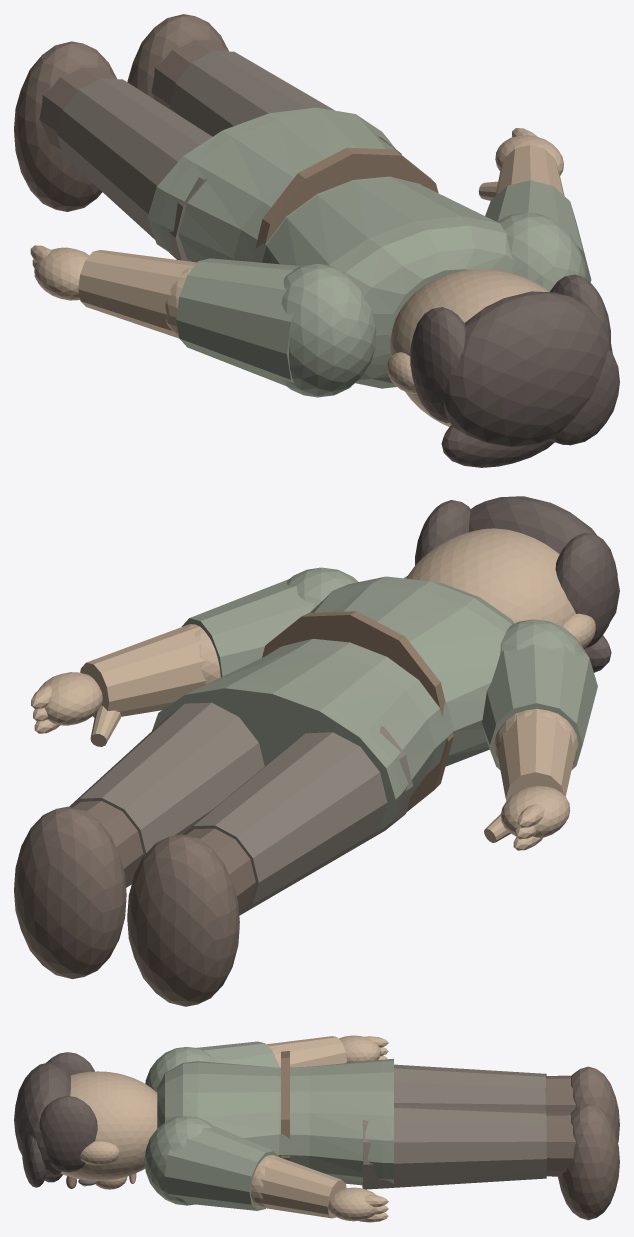
File: man.glb
3 renders of one model, top to bottom at view 1: azimuth 30°, elevation 25°; view 2: azimuth 150°, elevation 25°; view 3: azimuth 270°, elevation 25°, orthographic. The views are drawn at different scales.
Visible parts, largest first — view 1: man_006_tunic continuous body, man_039_hair cap, man_002_-1 trouser leg, man_010_-1 upper sleeve, man_009_-1 rounded shoulder, man_000_-1 boot toe, man_005_1 trouser leg, man_011_-1 forearm, man_027_head, man_007_belt narrow plain, man_018_1 rounded shoulder, man_040_side hair (+12 smaller); view 2: man_006_tunic continuous body, man_002_-1 trouser leg, man_000_-1 boot toe, man_003_1 boot toe, man_005_1 trouser leg, man_027_head, man_010_-1 upper sleeve, man_020_1 forearm, man_007_belt narrow plain, man_019_1 upper sleeve, man_011_-1 forearm, man_040_side hair (+12 smaller); view 3: man_006_tunic continuous body, man_005_1 trouser leg, man_027_head, man_019_1 upper sleeve, man_002_-1 trouser leg, man_003_1 boot toe, man_020_1 forearm, man_041_side hair, man_039_hair cap, man_018_1 rounded shoulder, man_000_-1 boot toe, man_011_-1 forearm (+11 smaller).
Part boxes in pixels (left/top/right/bottom): man_006_tunic continuous body: left=147, top=107, right=513, bottom=388; man_039_hair cap: left=442, top=291, right=612, bottom=446; man_002_-1 trouser leg: left=56, top=78, right=212, bottom=261; man_010_-1 upper sleeve: left=176, top=258, right=299, bottom=386; man_009_-1 rounded shoulder: left=281, top=263, right=376, bottom=397; man_000_-1 boot toe: left=14, top=41, right=116, bottom=211; man_005_1 trouser leg: left=169, top=51, right=401, bottom=154; man_011_-1 forearm: left=78, top=250, right=196, bottom=338; man_027_head: left=390, top=269, right=549, bottom=426; man_007_belt narrow plain: left=255, top=147, right=438, bottom=248; man_018_1 rounded shoulder: left=496, top=212, right=587, bottom=291; man_040_side hair: left=410, top=307, right=465, bottom=422; man_006_tunic continuous body: left=152, top=576, right=514, bottom=835; man_002_-1 trouser leg: left=183, top=726, right=413, bottom=915; man_000_-1 boot toe: left=127, top=834, right=239, bottom=1006; man_003_1 boot toe: left=14, top=806, right=126, bottom=978; man_005_1 trouser leg: left=69, top=702, right=264, bottom=887; man_027_head: left=406, top=528, right=575, bottom=626; man_010_-1 upper sleeve: left=481, top=643, right=597, bottom=769; man_020_1 forearm: left=80, top=624, right=209, bottom=717; man_007_belt narrow plain: left=262, top=611, right=453, bottom=812; man_019_1 upper sleeve: left=181, top=579, right=313, bottom=676; man_011_-1 forearm: left=497, top=708, right=575, bottom=800; man_040_side hair: left=555, top=532, right=617, bottom=649; man_006_tunic continuous body: left=157, top=1058, right=393, bottom=1185; man_005_1 trouser leg: left=362, top=1104, right=546, bottom=1189; man_027_head: left=61, top=1071, right=157, bottom=1180; man_019_1 upper sleeve: left=164, top=1125, right=278, bottom=1210; man_002_-1 trouser leg: left=394, top=1064, right=546, bottom=1110; man_003_1 boot toe: left=558, top=1103, right=619, bottom=1220; man_020_1 forearm: left=259, top=1155, right=346, bottom=1218; man_041_side hair: left=39, top=1096, right=97, bottom=1172; man_039_hair cap: left=14, top=1062, right=70, bottom=1177; man_018_1 rounded shoulder: left=144, top=1116, right=212, bottom=1205; man_000_-1 boot toe: left=571, top=1066, right=619, bottom=1142; man_011_-1 forearm: left=267, top=1036, right=346, bottom=1067.
Size of the model in its own units: 1.34 by 0.519 by 2.01.
